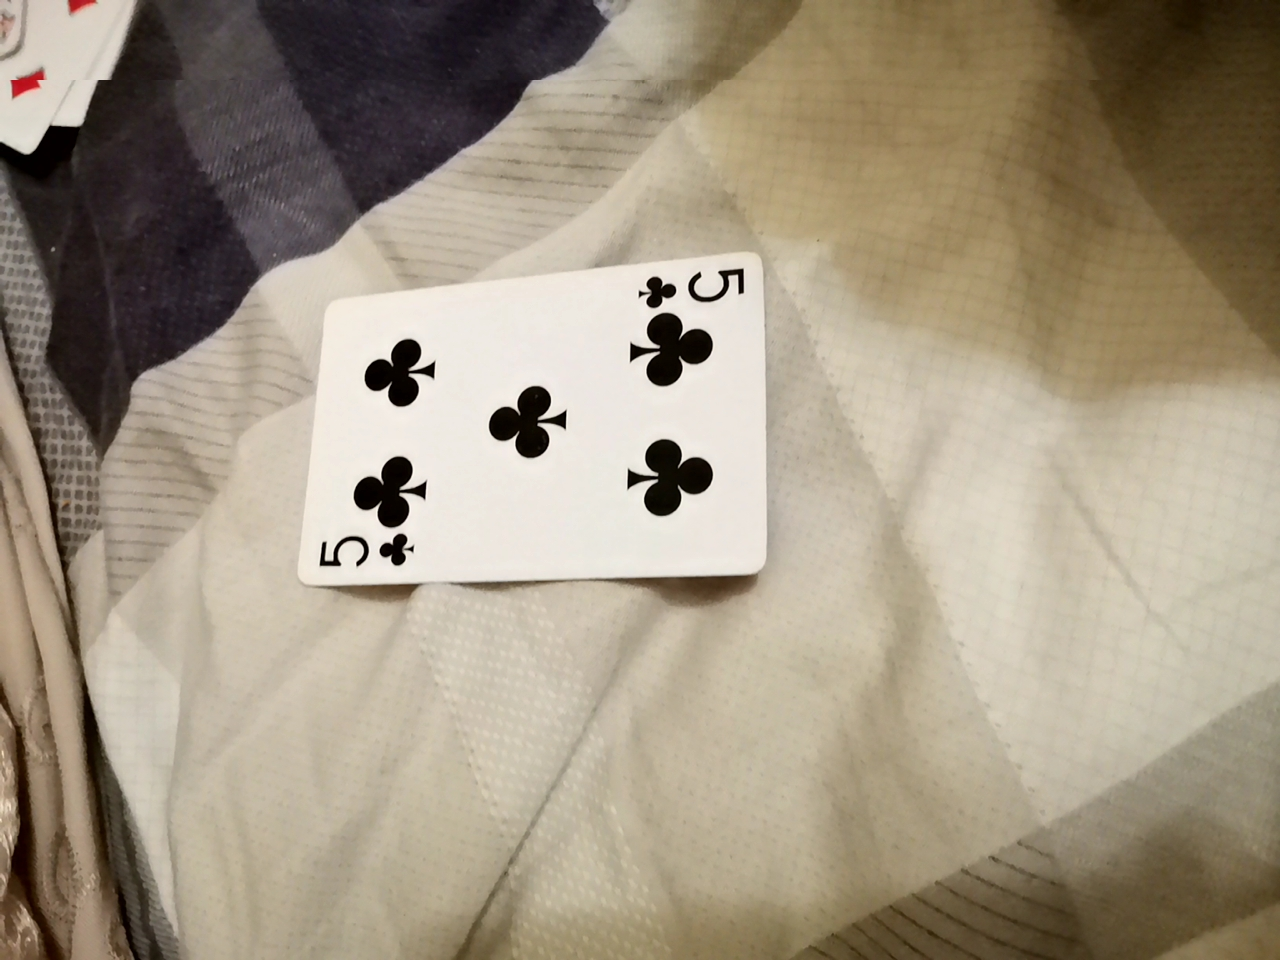mh 5: (307, 260, 773, 602)
